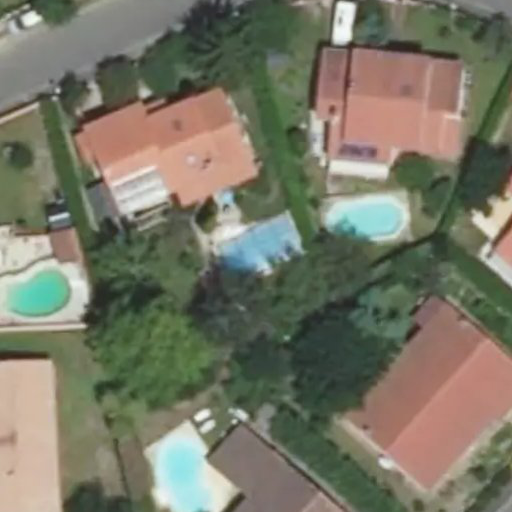pool: (211, 228, 296, 242)
